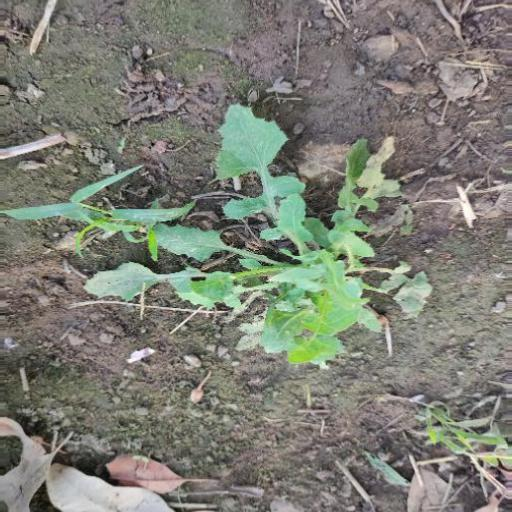weed: (38, 98, 435, 359)
